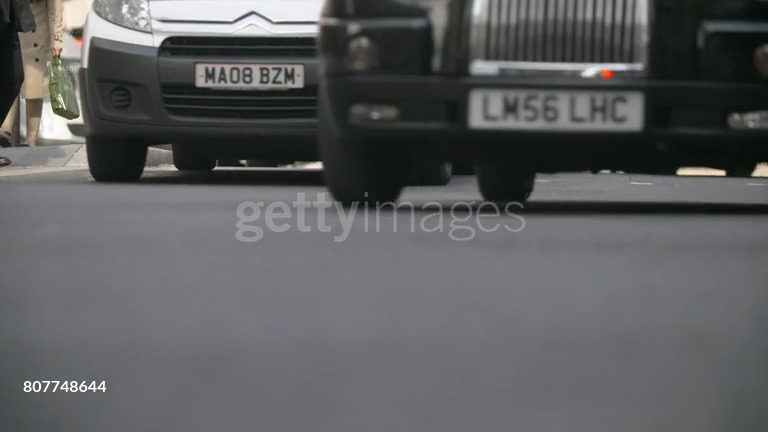car number: (468, 88, 645, 129), (193, 61, 304, 88)
